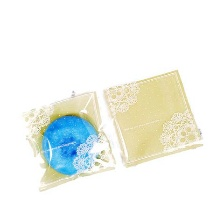snack: (97, 63, 209, 172), (16, 84, 120, 195)
